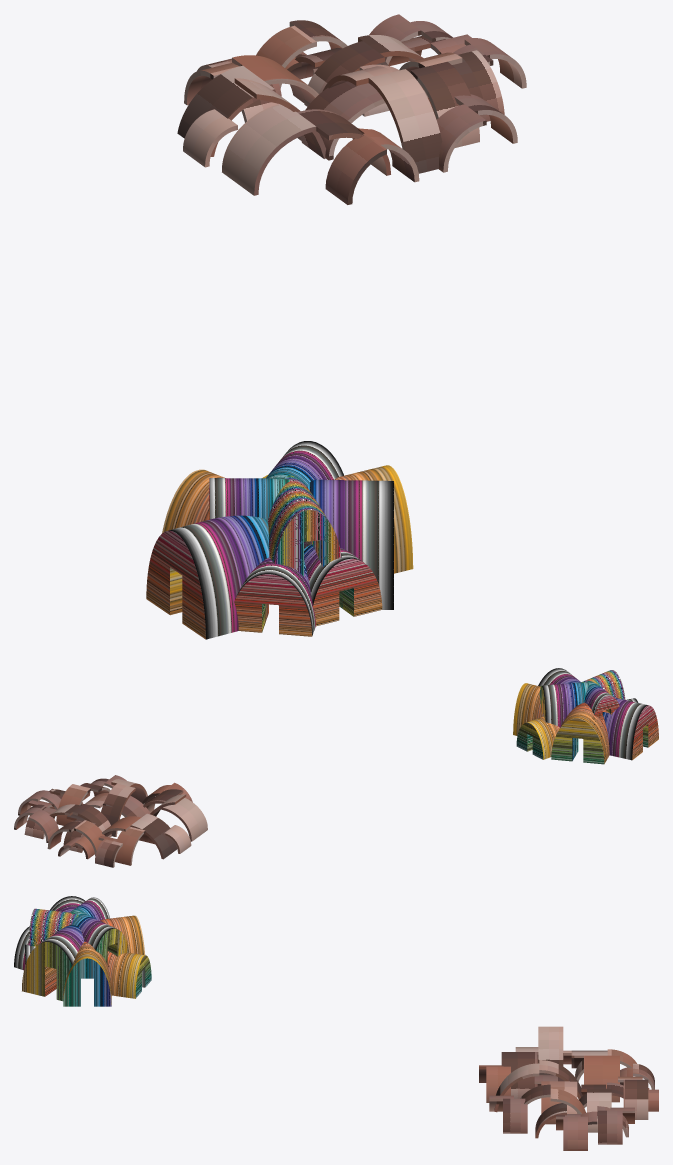
The picture shows the model from 3 angles, top to bottom: view 1: azimuth 30°, elevation 25°; view 2: azimuth 150°, elevation 25°; view 3: azimuth 270°, elevation 25°; orthographic projection. The views are drawn at different scales.
Parts seen in each view (by area): view 1: Raum Folge Prusa2 mm, Raummasse (1); view 2: Raum Folge Prusa2 mm, Raummasse (1); view 3: Raum Folge Prusa2 mm, Raummasse (1).
Part boxes in pixels (box(x1,y1,x2,y2)): Raum Folge Prusa2 mm: box(177, 14, 526, 204); Raummasse (1): box(146, 441, 413, 639); Raum Folge Prusa2 mm: box(14, 775, 207, 867); Raummasse (1): box(513, 668, 658, 764); Raum Folge Prusa2 mm: box(479, 1026, 658, 1150); Raummasse (1): box(14, 896, 151, 1006).
Size of the model in its own units: 0.3388 by 0.0451 by 0.4283.
Materials: 2 (2 with a texture image).
